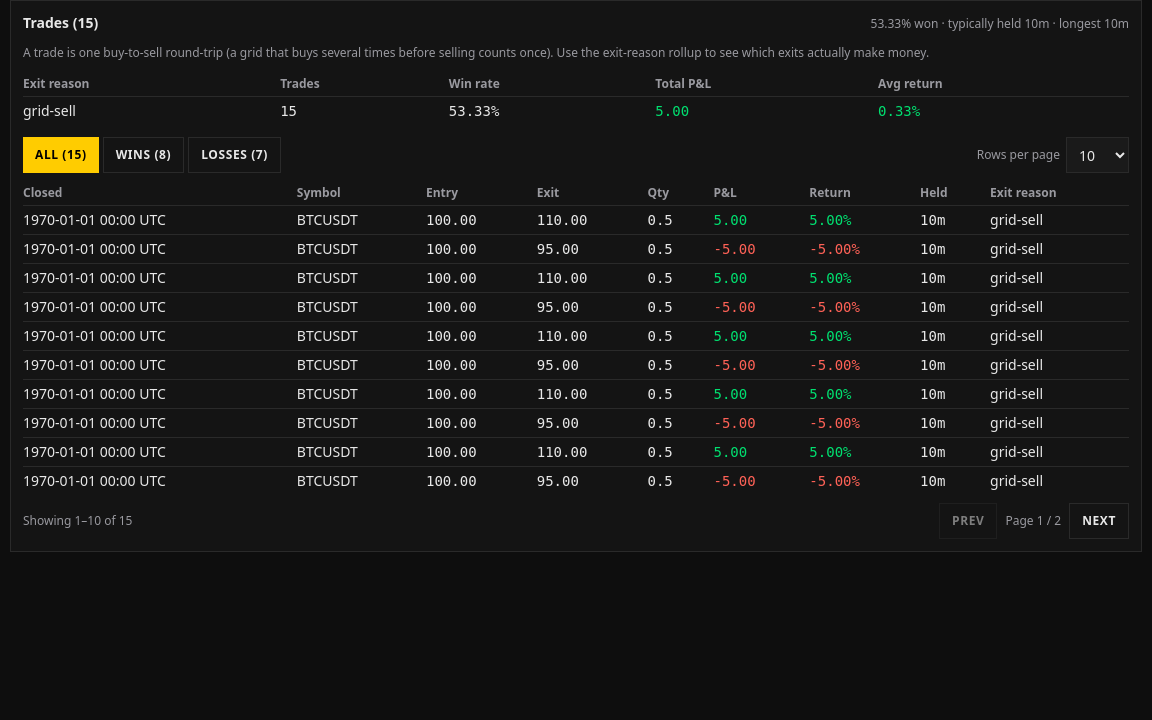
Test: BacktestRoundTrips pagination + filter › paginates at the default 10 rows and steps with Prev/Next
The width and height of the screenshot is (1152, 720).
Expected: the text with test id "bt-trades-range" reads "Showing 1–10 of 15", [23, 512, 132, 529]
Expected: the button with test id "bt-trades-prev" is disabled, [939, 503, 997, 539]
Click the button with test id "bt-trades-next": (1099, 521) [1069, 503, 1129, 539]
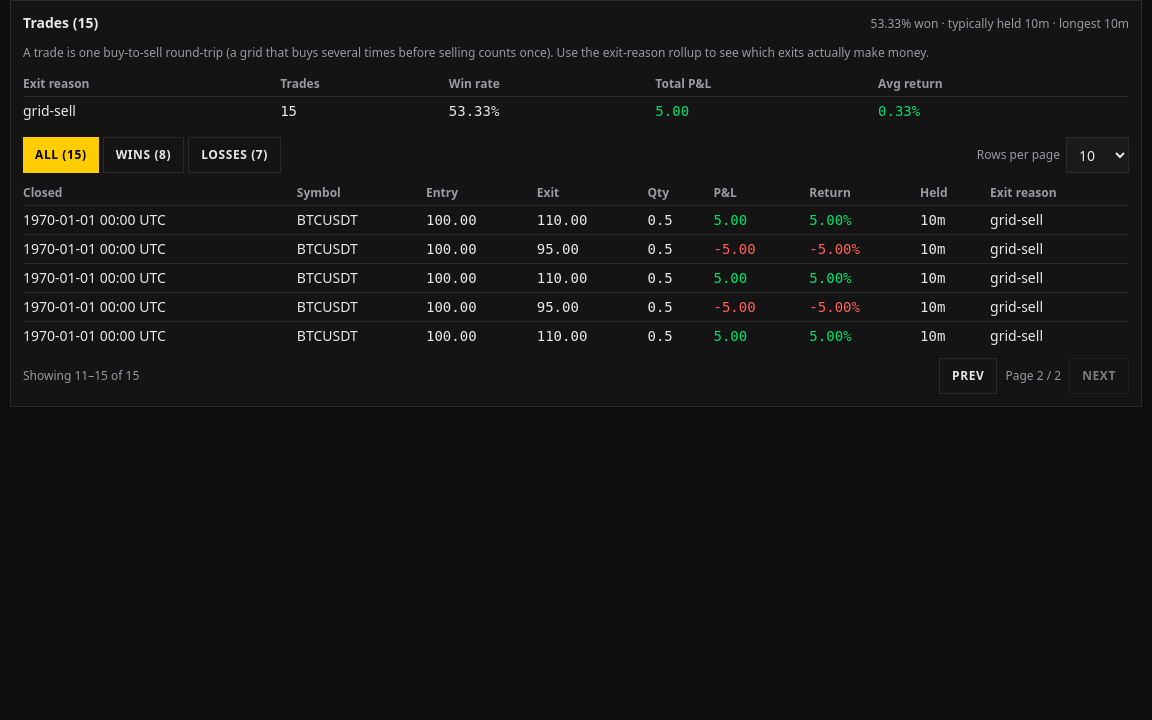
Result: the text with test id "bt-trades-range" reads "Showing 11–15 of 15" at [23, 367, 139, 384]
Result: the button with test id "bt-trades-next" is disabled at [1069, 358, 1129, 394]
